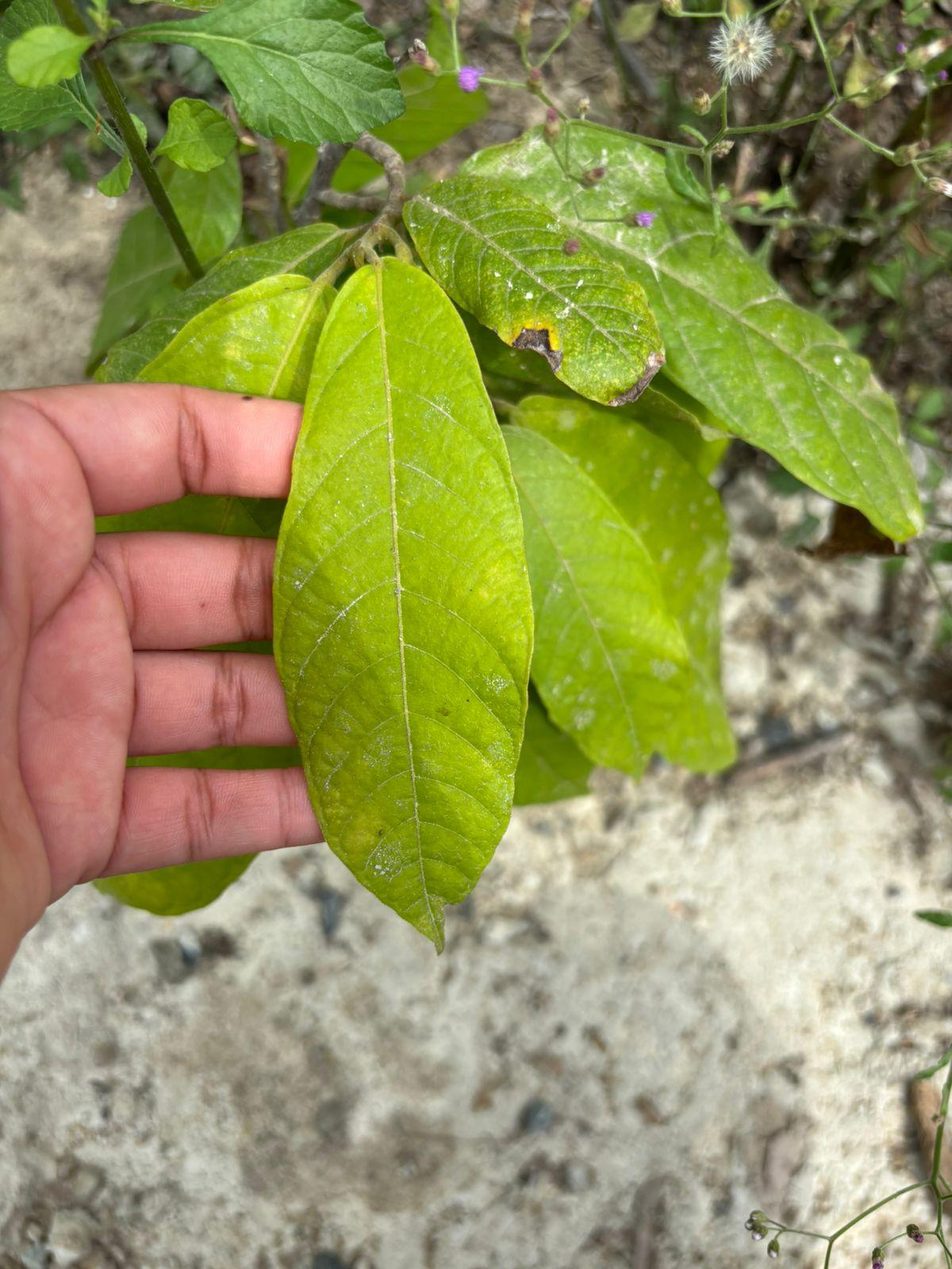deficiencia_nitrogeno: (274, 259, 532, 949)
